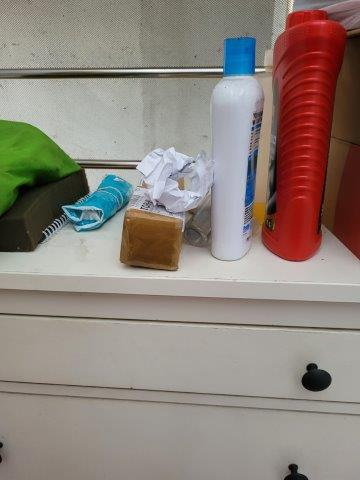kardus: (122, 210, 184, 272)
kertas: (146, 152, 213, 207)
